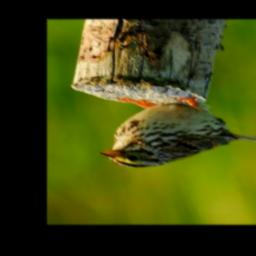Sparrow: (96, 95, 256, 169)
